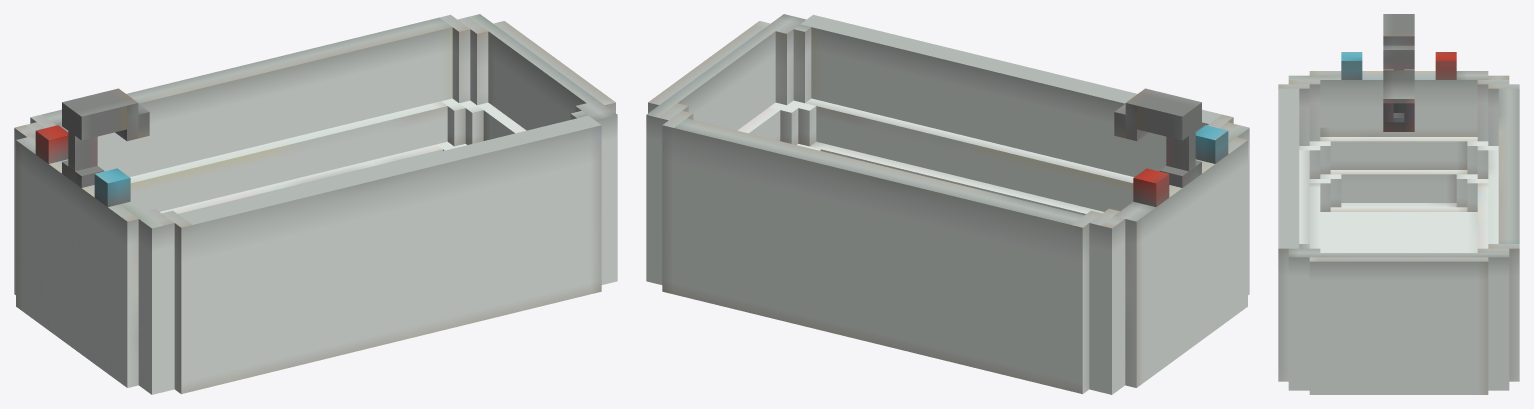
The model's file is Bathtub_00.obj.
3 renders of one model, left to right at view 1: azimuth 30°, elevation 25°; view 2: azimuth 150°, elevation 25°; view 3: azimuth 270°, elevation 25°, orthographic. The views are drawn at different scales.
Visible parts, largest first — view 1: Bathtub_00; view 2: Bathtub_00; view 3: Bathtub_00.
Part boxes in pixels (box(x1,y1,x2,y2)): Bathtub_00: box(14, 14, 617, 394); Bathtub_00: box(646, 14, 1249, 394); Bathtub_00: box(1278, 14, 1519, 394).
Bounding box in the file's own units: 2.15 × 1 × 1.15.
